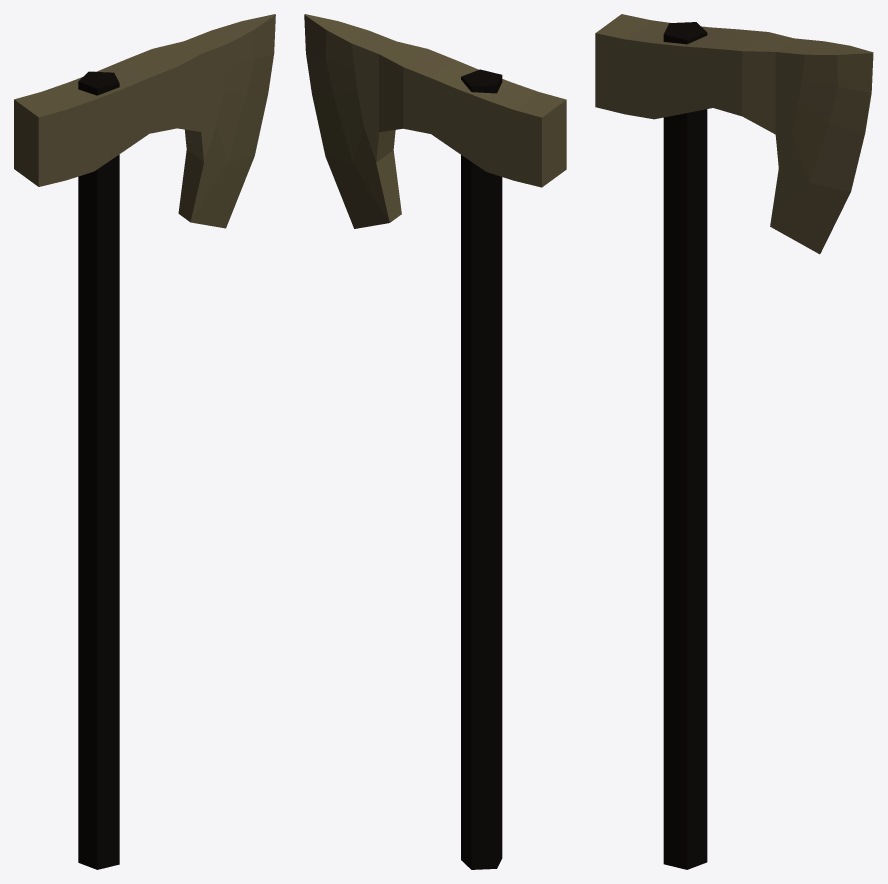
File: Axe.obj
3 renders of one model, left to right at view 1: azimuth 30°, elevation 25°; view 2: azimuth 150°, elevation 25°; view 3: azimuth 330°, elevation 25°, orthographic. The views are drawn at different scales.
Visible parts, largest first — view 1: Cylinder_Cylinder.002; view 2: Cylinder_Cylinder.002; view 3: Cylinder_Cylinder.002.
Part boxes in pixels (x1=…): Cylinder_Cylinder.002: x1=14, y1=14, x2=275, y2=869; Cylinder_Cylinder.002: x1=304, y1=14, x2=566, y2=869; Cylinder_Cylinder.002: x1=595, y1=14, x2=873, y2=869.
Bounding box in the file's own units: 7.7 × 23.72 × 1.32.
